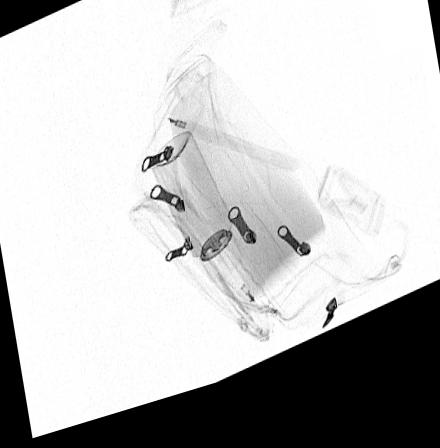Sprayer: (152, 141, 243, 294)
